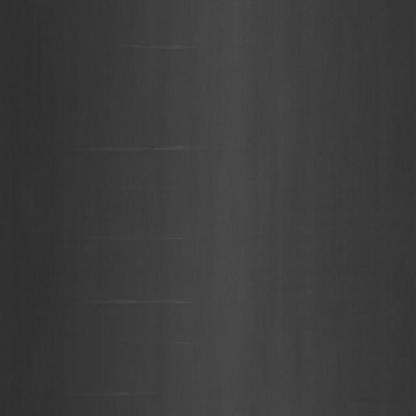waist_folding: (64, 36, 188, 361)
